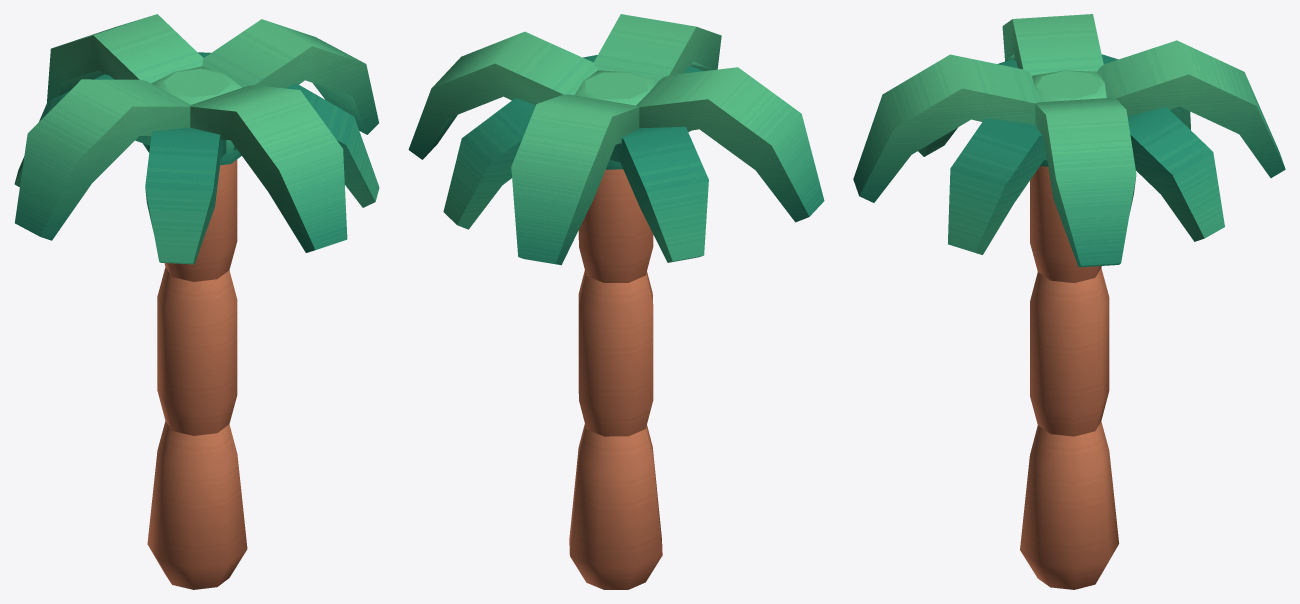
Rendered from palm-detailed-straight.001_lev2.glb.
The picture shows the model from 3 angles, left to right: view 1: azimuth 30°, elevation 25°; view 2: azimuth 150°, elevation 25°; view 3: azimuth 270°, elevation 25°; orthographic projection.
Visible parts, largest first — view 1: palm-detailed-straight.001_lev2; view 2: palm-detailed-straight.001_lev2; view 3: palm-detailed-straight.001_lev2.
Boxes of the visible parts, x1,y1,x2,y2 form: palm-detailed-straight.001_lev2: (14,14,379,589); palm-detailed-straight.001_lev2: (408,14,824,589); palm-detailed-straight.001_lev2: (853,14,1285,589).
Bounding box in the file's own units: 6.69 × 8.74 × 6.69.
1 material, 1 textured.
